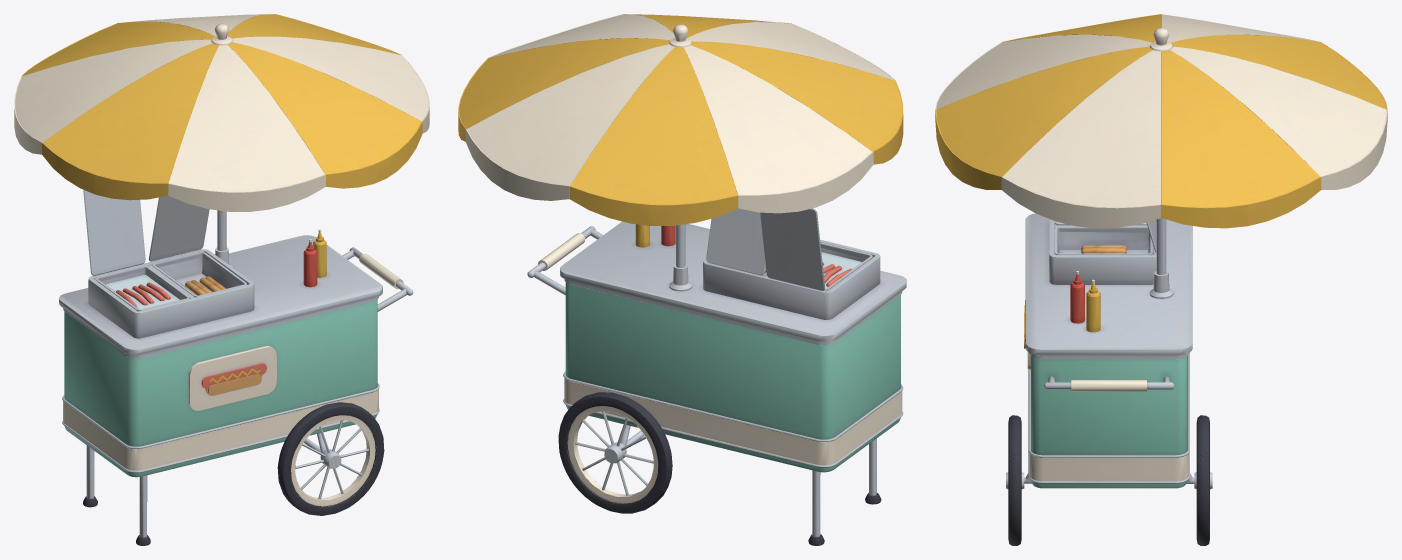
The model's file is hot-dog-cart-light.glb.
3 renders of one model, left to right at view 1: azimuth 30°, elevation 25°; view 2: azimuth 150°, elevation 25°; view 3: azimuth 270°, elevation 25°, orthographic. The views are drawn at different scales.
Visible parts, largest first — view 1: hot-dog-cart_body, hot-dog-cart_umbrella; view 2: hot-dog-cart_body, hot-dog-cart_umbrella; view 3: hot-dog-cart_umbrella, hot-dog-cart_body.
Boxes of the visible parts, x1,y1,x2,y2 form: hot-dog-cart_body: (59,190,413,545); hot-dog-cart_umbrella: (14,14,429,250); hot-dog-cart_body: (527,208,906,545); hot-dog-cart_umbrella: (458,14,903,267); hot-dog-cart_umbrella: (935,14,1387,274); hot-dog-cart_body: (1006,213,1212,545).
Bounding box in the file's own units: 1.73 × 2.06 × 1.73.
2 materials, 2 textured.
